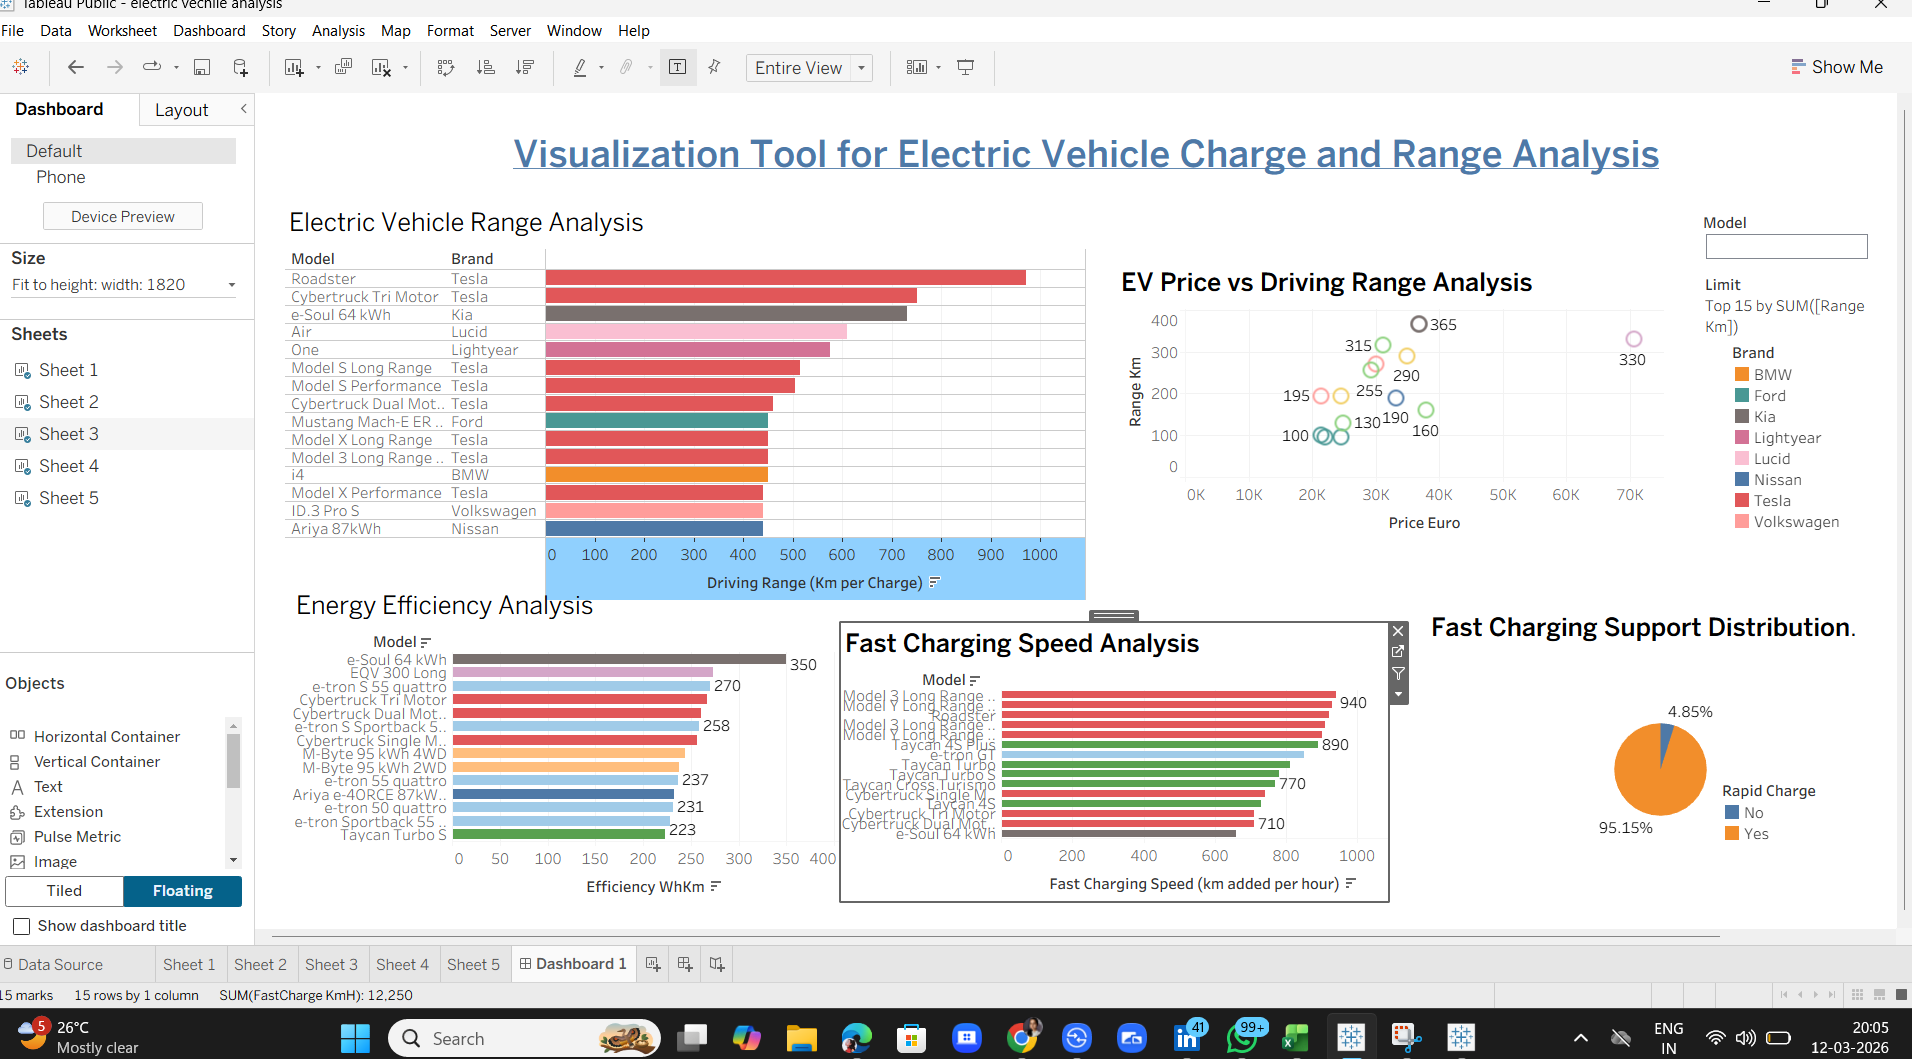

What the dashboard file says about the page in this screenshot:
{"tool":"tableau","page":{"name":"Dashboard 1","canvas":[1000,1000],"units":"permille","ordinal":0},"visuals":[{"type":"text","box":[62.1,33.5,789.6,81.4]},{"type":"worksheet","title":"Sheet 1","mark":"Bar","rows":["Model","Brand"],"cols":["Range_Km"],"box":[16.5,130.5,440.1,477.8]},{"type":"filter","title":"Sheet 1","param":"[federated.00lb9iw0frxajc1310nr615rhtto].[none:Model:nk]","box":[795.6,142.5,92.3,154.5]},{"type":"worksheet","title":"Sheet 2","mark":"Shape","rows":["Range_Km"],"cols":["PriceEuro"],"box":[473.6,202.4,300.6,332.9]},{"type":"legend","title":"Sheet 1","param":"[federated.00lb9iw0frxajc1310nr615rhtto].[none:Brand:nk]","box":[811.5,298.2,76.9,245.5]},{"type":"worksheet","title":"Sheet 4","mark":"Automatic","rows":["Model"],"cols":["Efficiency_WhKm"],"box":[20.3,589.2,300.6,382]},{"type":"worksheet","title":"Sheet 5","mark":"Pie","box":[644,615.6,256.6,332.9]},{"type":"worksheet","title":"Sheet 3","mark":"Automatic","rows":["Model"],"cols":["FastCharge_KmH"],"box":[322,634.7,300.6,332.9]},{"type":"legend","title":"Sheet 5","param":"[federated.00lb9iw0frxajc1310nr615rhtto].[none:RapidCharge:nk]","box":[806,822.8,76.9,76.7]}]}

Visuals, with their boxes on the dashboard's canvas, which has no fixed pixel size, in thousandths of its width and height (x1, y1, x2, y2). These are canvas units, not pixel positions in the 1912x1059 screenshot, which may show the page scaled, cropped or inside an application window:
text: {"x1": 62, "y1": 34, "x2": 852, "y2": 115}
"Sheet 1" worksheet (Bar marks): {"x1": 16, "y1": 130, "x2": 457, "y2": 608}
"Sheet 1" filter: {"x1": 796, "y1": 142, "x2": 888, "y2": 297}
"Sheet 2" worksheet (Shape marks): {"x1": 474, "y1": 202, "x2": 774, "y2": 535}
"Sheet 1" legend: {"x1": 812, "y1": 298, "x2": 888, "y2": 544}
"Sheet 4" worksheet: {"x1": 20, "y1": 589, "x2": 321, "y2": 971}
"Sheet 5" worksheet (Pie marks): {"x1": 644, "y1": 616, "x2": 901, "y2": 948}
"Sheet 3" worksheet: {"x1": 322, "y1": 635, "x2": 623, "y2": 968}
"Sheet 5" legend: {"x1": 806, "y1": 823, "x2": 883, "y2": 900}
